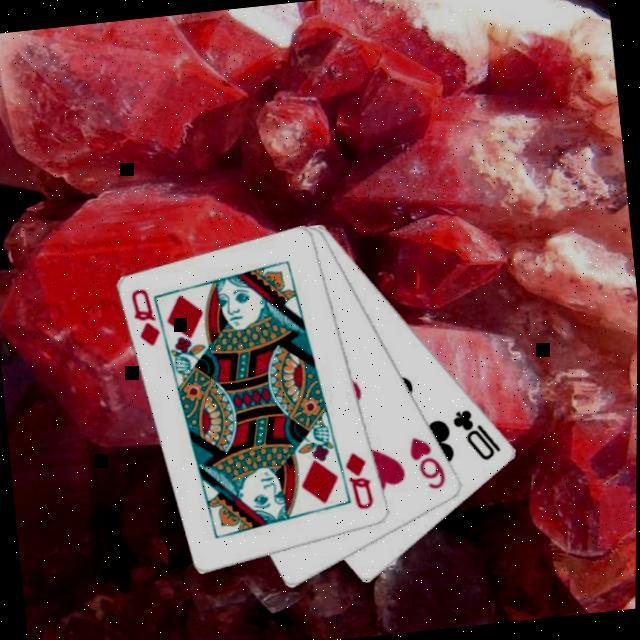10C: (451, 400, 507, 464)
6H: (408, 428, 452, 492)
QD: (128, 282, 166, 350), (344, 445, 379, 511)
